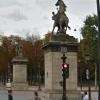Statue: (35, 2, 88, 63)
